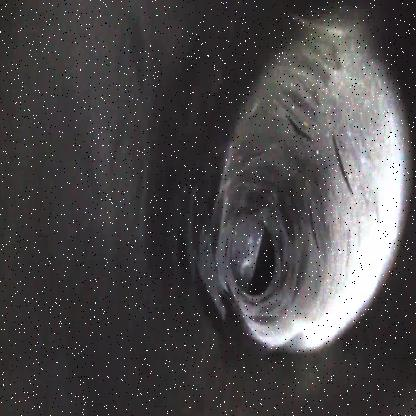Crack: (196, 15, 410, 347)
